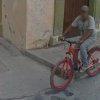bicycles: (51, 37, 100, 92)
